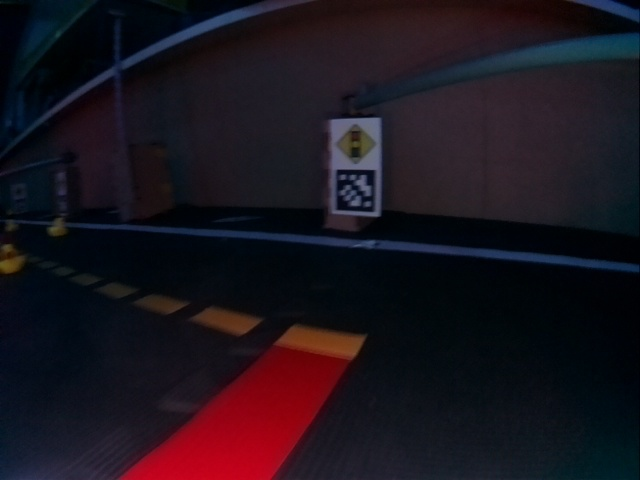Duckie: (2, 246, 25, 274), (48, 220, 65, 235), (9, 220, 15, 229)
QR code: (333, 171, 376, 214)
Signal sign: (336, 124, 377, 162)
